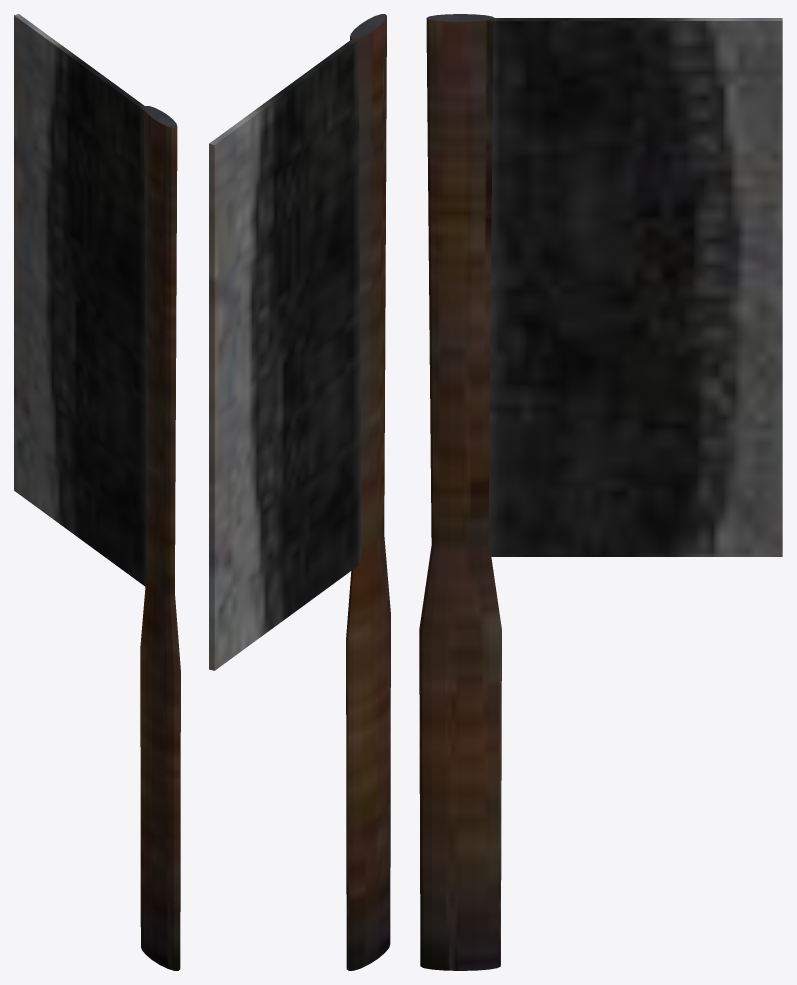
The model's file is knife.fbx.
3 views of the same model, side by side, from view 1: azimuth 30°, elevation 25°; view 2: azimuth 150°, elevation 25°; view 3: azimuth 270°, elevation 25° (orthographic). The views are drawn at different scales.
Parts seen in each view (by area): view 1: knife; view 2: knife; view 3: knife.
Part boxes in pixels (left/top/right/bottom): knife: left=14, top=14, right=180, bottom=970; knife: left=209, top=14, right=390, bottom=970; knife: left=419, top=14, right=782, bottom=970.
Bounding box in the file's own units: 1.05 × 48.13 × 16.72.
